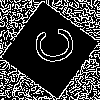C: (25, 25, 76, 68)
